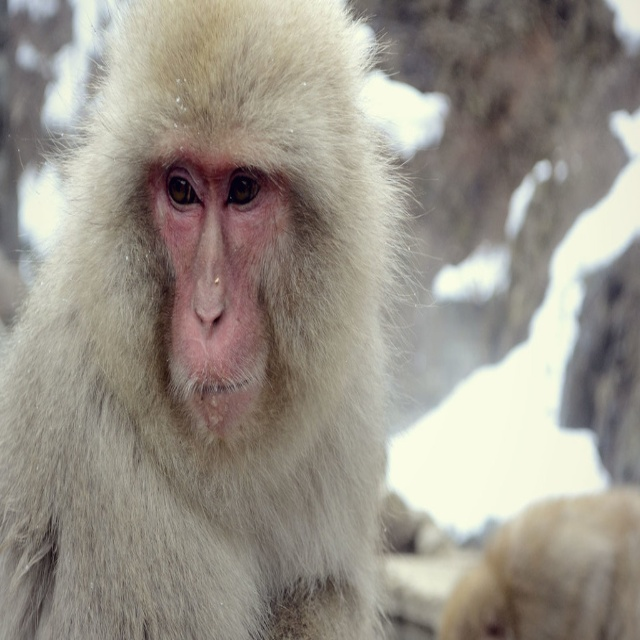Monkey: (0, 0, 442, 636)
